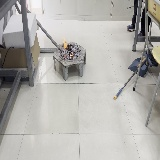fire: (62, 37, 70, 49), (70, 54, 73, 58)
